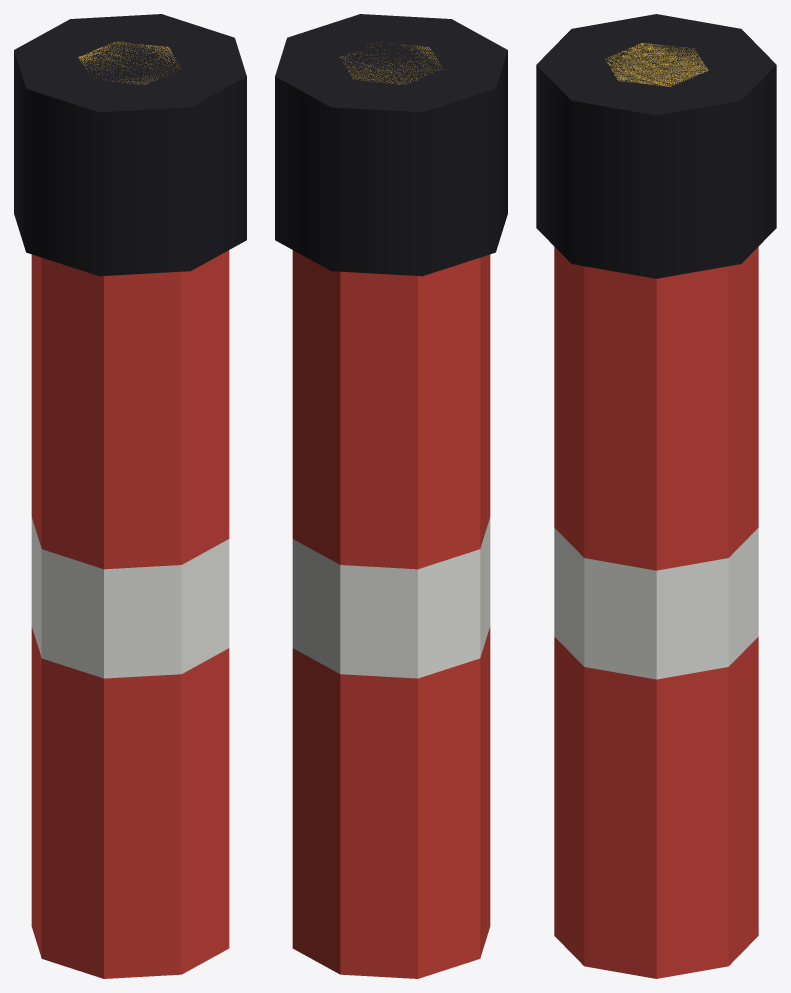
The model's file is Bengala.fbx.
3 views of the same model, side by side, from view 1: azimuth 30°, elevation 25°; view 2: azimuth 150°, elevation 25°; view 3: azimuth 270°, elevation 25° (orthographic).
Visible parts, largest first — view 1: Bengala; view 2: Bengala; view 3: Bengala.
Boxes of the visible parts, x1,y1,x2,y2 form: Bengala: (14,14,246,978); Bengala: (275,14,507,978); Bengala: (536,14,776,978).
Bounding box in the file's own units: 0.4 × 1.6 × 0.4.
Materials: 1 (1 with a texture image).
